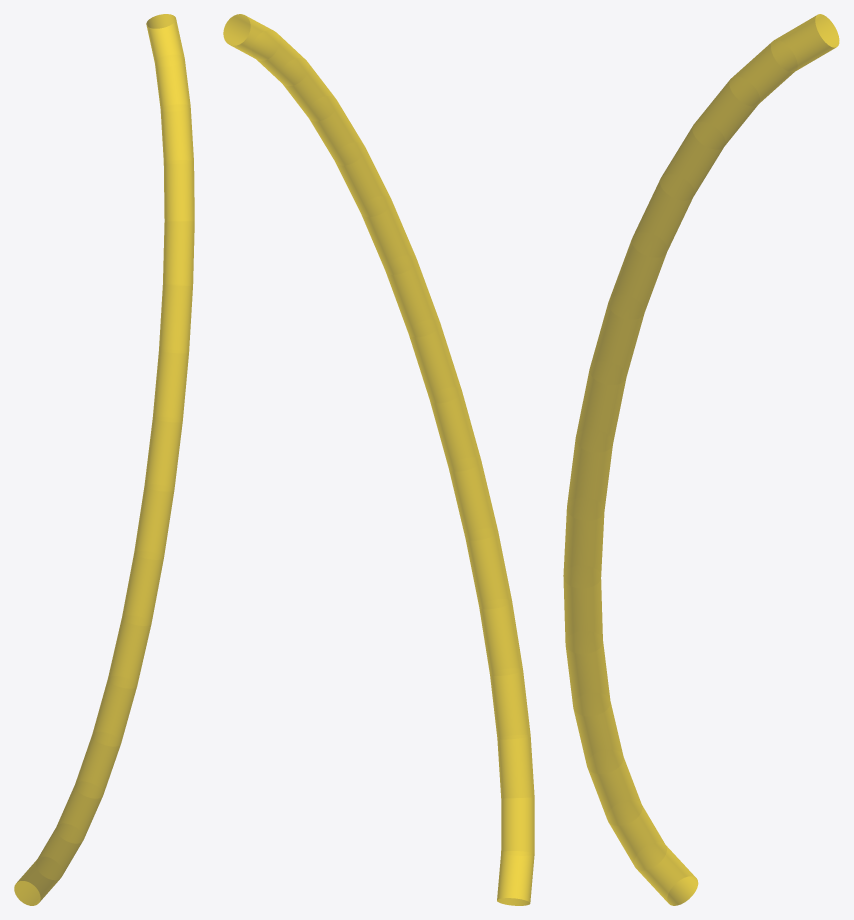
File: Event_15818458_track_64.fbx
3 views of the same model, side by side, from view 1: azimuth 30°, elevation 25°; view 2: azimuth 150°, elevation 25°; view 3: azimuth 270°, elevation 25° (orthographic). The views are drawn at different scales.
Visible parts, largest first — view 1: Model; view 2: Model; view 3: Model.
Part boxes in pixels (left/top/right/bottom): Model: left=14, top=14, right=194, bottom=905; Model: left=223, top=14, right=534, bottom=905; Model: left=563, top=14, right=839, bottom=905.
Bounding box in the file's own units: 0.3307 × 1.17 × 0.2915.
